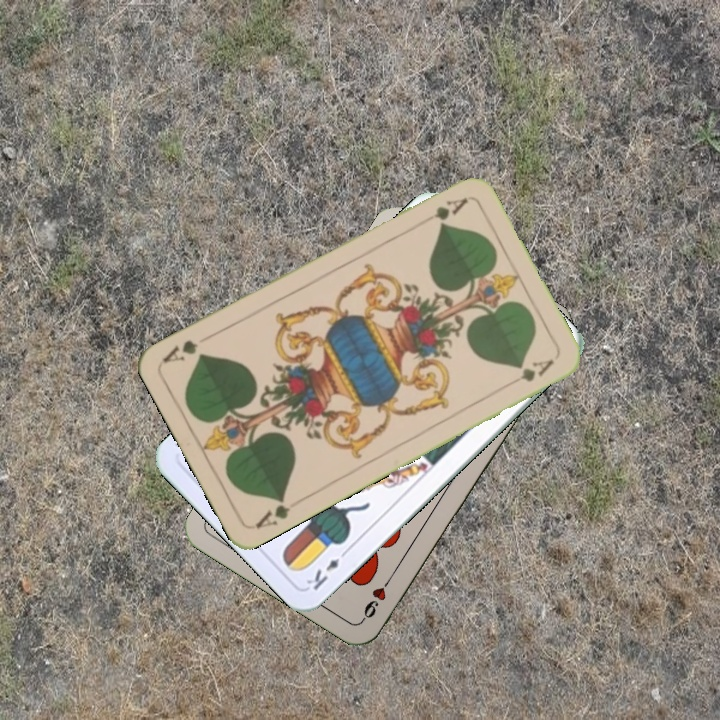EK: (302, 544, 351, 593)
GA: (415, 193, 471, 228), (251, 492, 293, 532)
H9: (358, 570, 396, 623)
